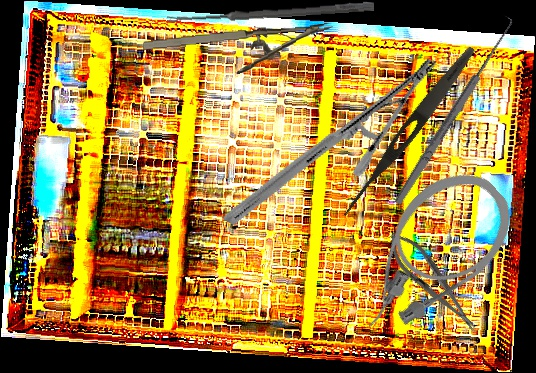Cannula: (325, 153, 531, 352)
Dressing Forceps: (338, 42, 480, 222)
Hook Surgical: (385, 12, 519, 207)
Needle Holder: (223, 10, 437, 273), (379, 224, 486, 340), (142, 22, 336, 81)
Surgical Spoon: (166, 0, 375, 26)
